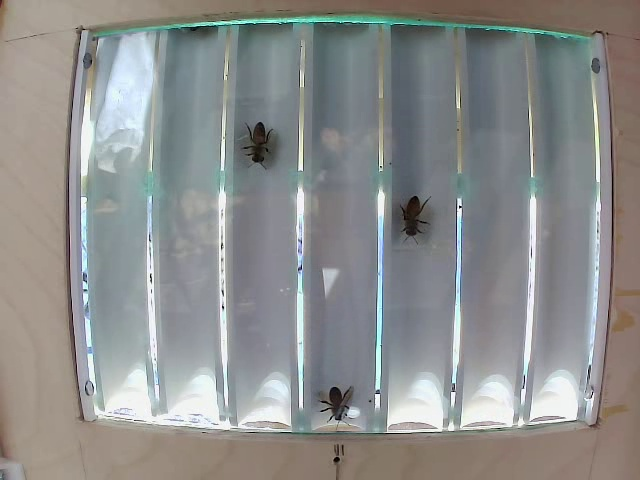bee: (393, 188, 447, 261), (303, 381, 363, 423), (229, 115, 270, 173)
